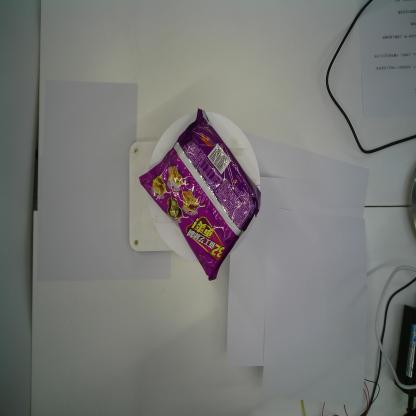Instant Noodles: (138, 107, 258, 283)
